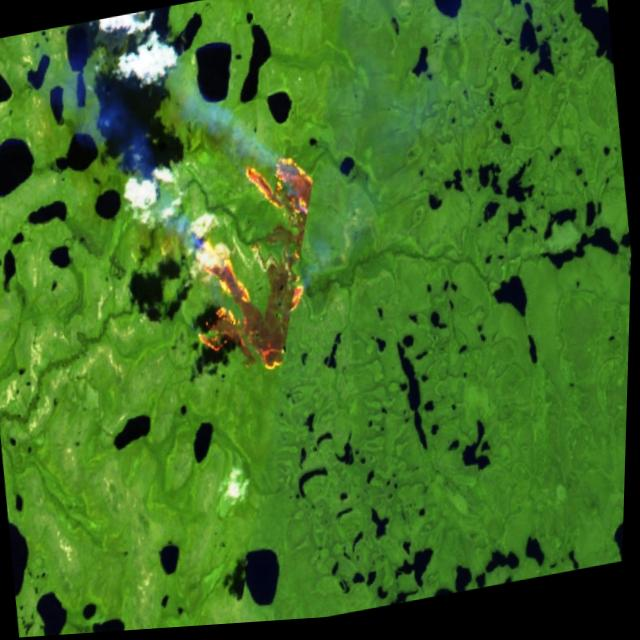fire: (168, 139, 339, 401)
